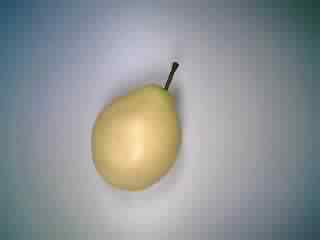pear: (84, 51, 195, 199)
